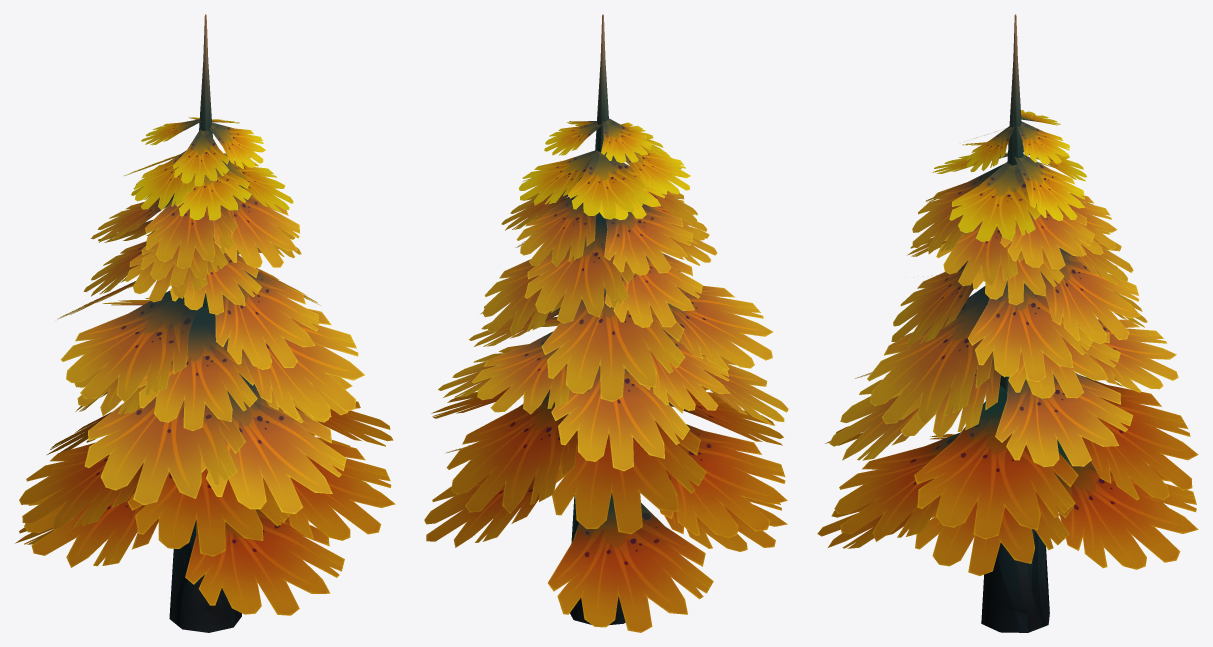
Rendered from tree3.obj.
3 views of the same model, side by side, from view 1: azimuth 30°, elevation 25°; view 2: azimuth 150°, elevation 25°; view 3: azimuth 270°, elevation 25° (orthographic).
Visible parts, largest first — view 1: tree2; view 2: tree2; view 3: tree2.
Boxes of the visible parts, <box> form: tree2: <box>15,14,395,632</box>; tree2: <box>424,14,788,632</box>; tree2: <box>817,14,1198,632</box>.
Size of the model in its own units: 20.95 by 35.17 by 20.12.
Materials: 1 (1 with a texture image).
